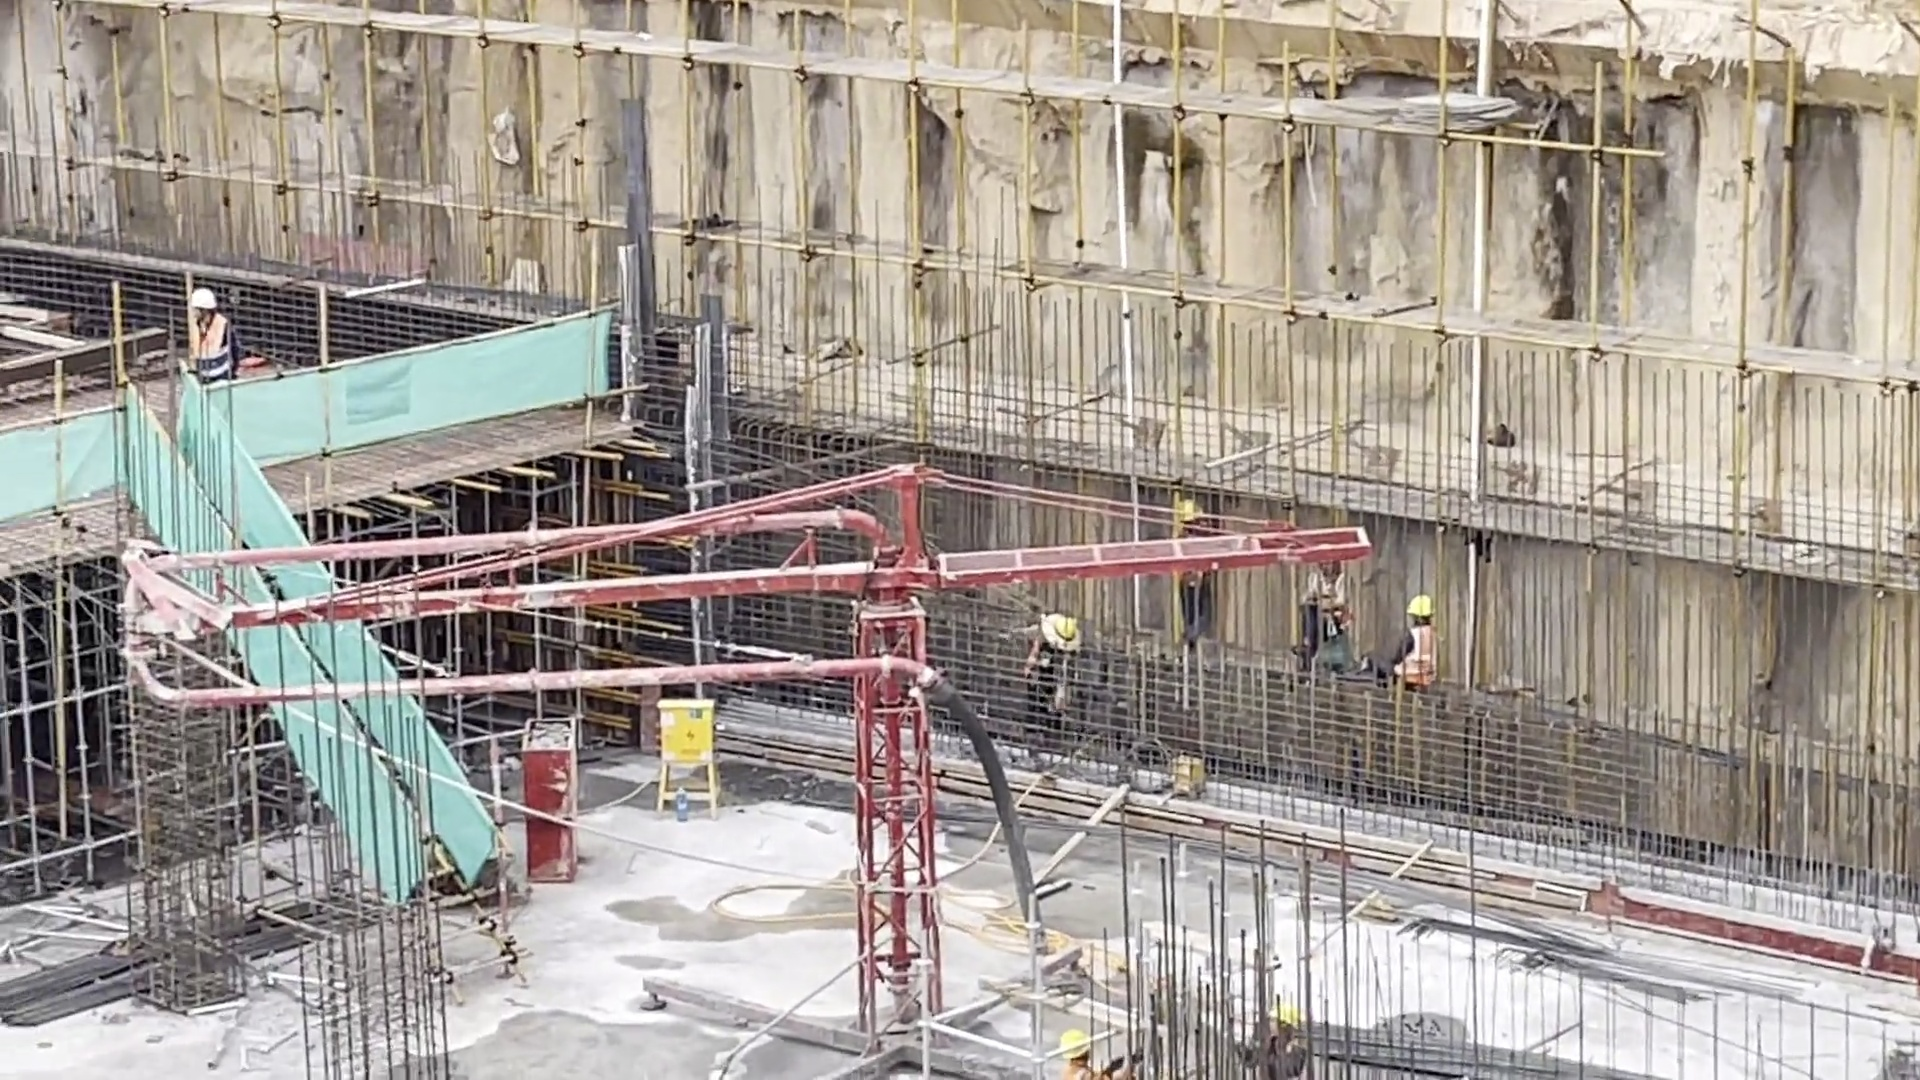ebox: (649, 694, 728, 774)
helmet: (1054, 1030, 1099, 1060), (1051, 609, 1083, 651), (1405, 591, 1442, 622), (1269, 994, 1303, 1023), (187, 285, 226, 310)
person: (1018, 608, 1079, 749), (1241, 995, 1331, 1080), (183, 284, 248, 388), (1302, 564, 1359, 678), (1393, 585, 1451, 697), (1053, 1012, 1133, 1080)
vest: (181, 319, 233, 377), (1400, 626, 1444, 686)
